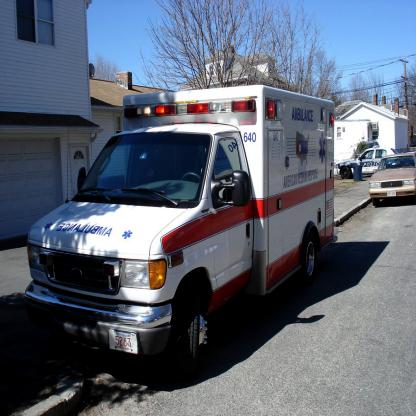Ambulance: (25, 83, 340, 384)
